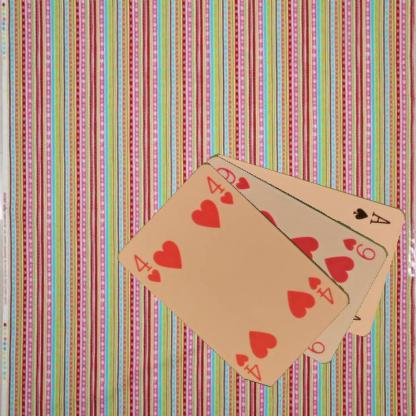4h: (131, 252, 163, 284), (306, 274, 336, 306)
9h: (340, 235, 377, 262)
As: (350, 205, 392, 225)
